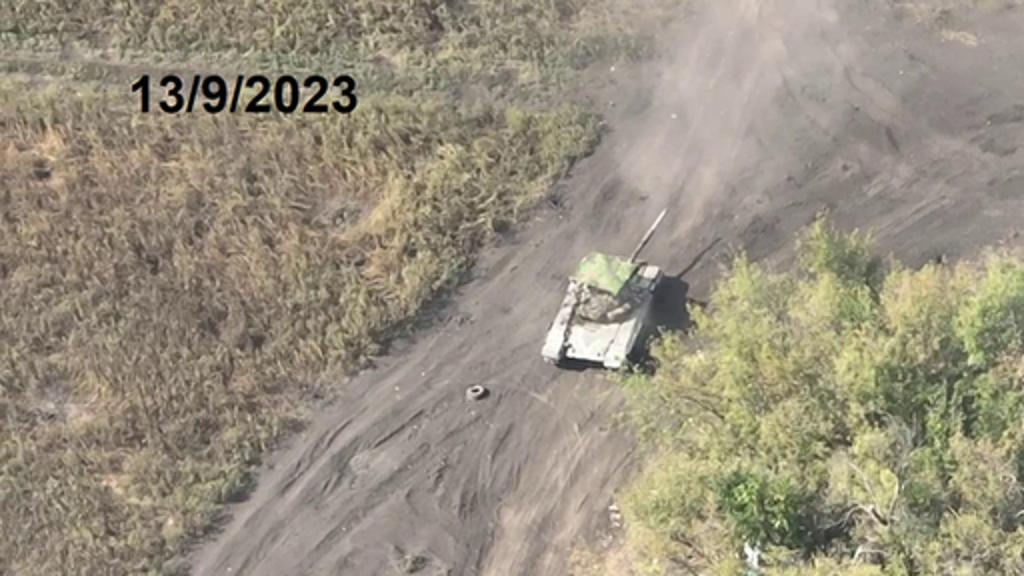TANK: (534, 196, 684, 378)
